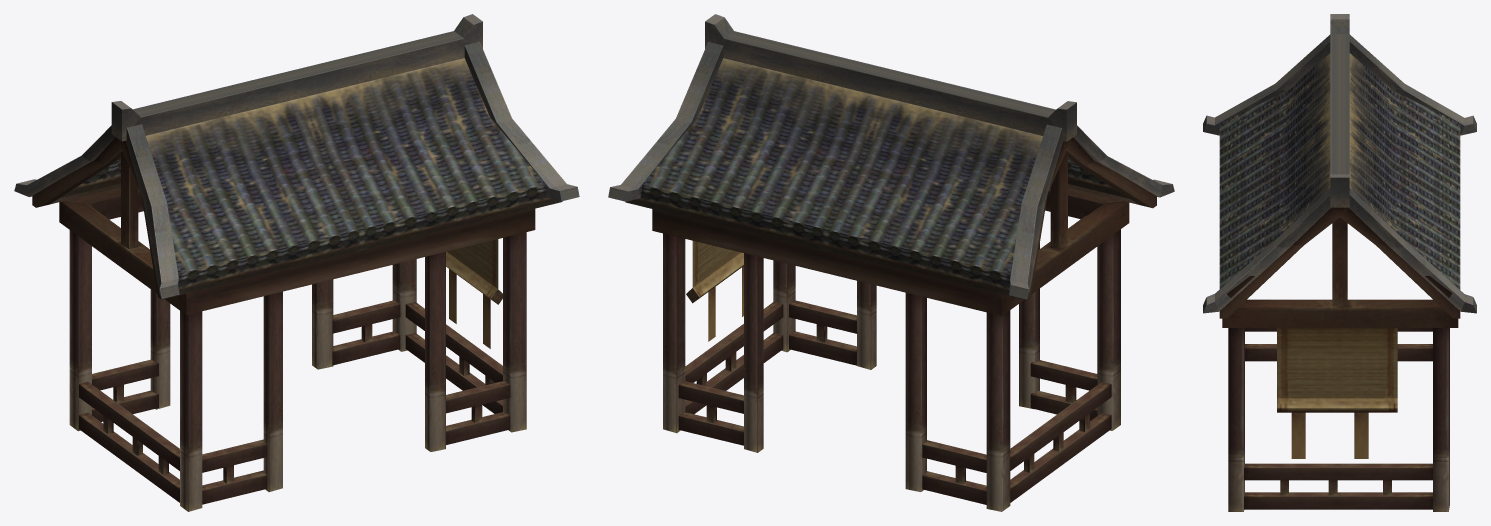
Rendered from yw_yanmenguan_fujian.FBX.
3 renders of one model, left to right at view 1: azimuth 30°, elevation 25°; view 2: azimuth 150°, elevation 25°; view 3: azimuth 270°, elevation 25°, orthographic. The views are drawn at different scales.
Parts seen in each view (by area): view 1: yw_yanmenguan_fujian; view 2: yw_yanmenguan_fujian; view 3: yw_yanmenguan_fujian.
Part boxes in pixels (<box>): yw_yanmenguan_fujian: <box>14,14,579,511</box>; yw_yanmenguan_fujian: <box>608,14,1174,511</box>; yw_yanmenguan_fujian: <box>1203,14,1476,511</box>.
Bounding box in the file's own units: 602 × 502 × 367.
